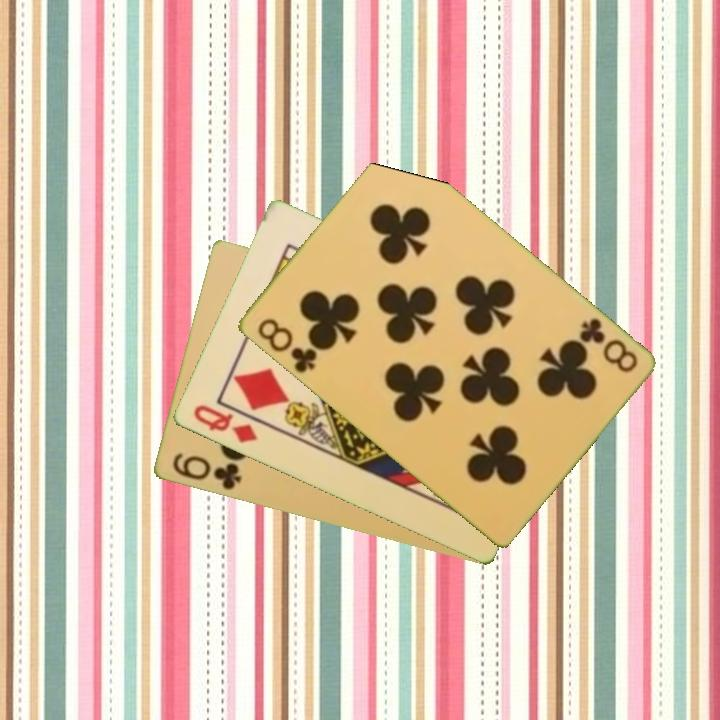6c: (168, 449, 244, 494)
8c: (574, 314, 640, 376), (253, 315, 320, 376)
Qd: (189, 401, 260, 447)
